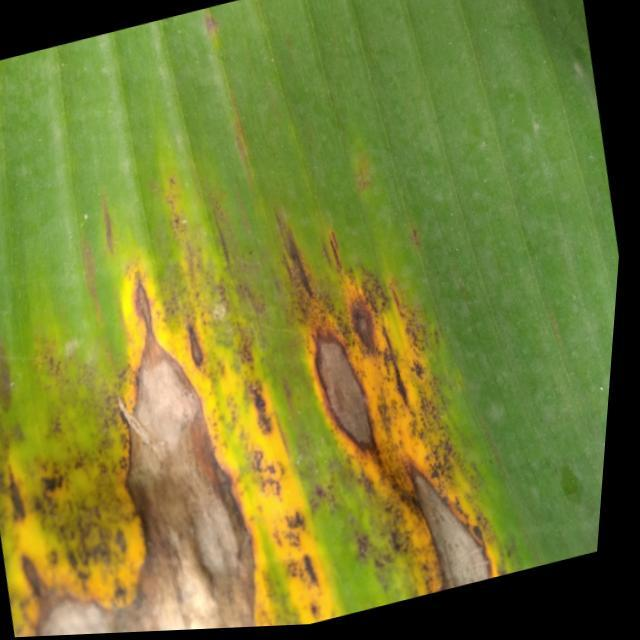Early_rust: (0, 118, 538, 617)
